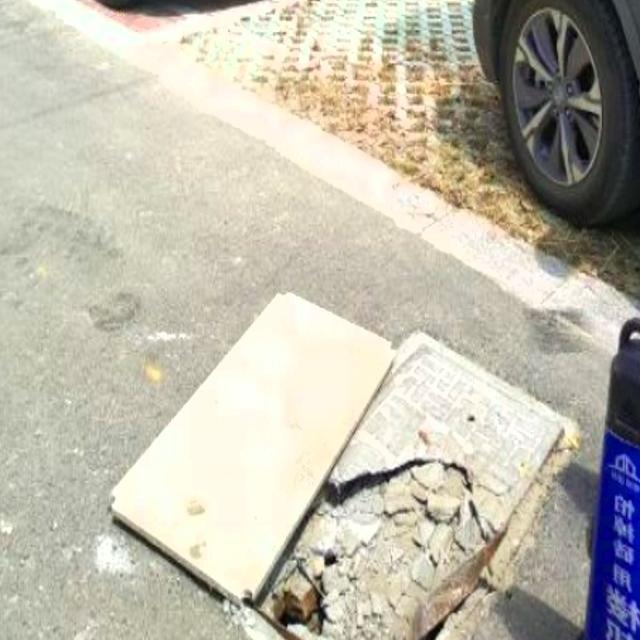broke: (205, 401, 574, 640)
